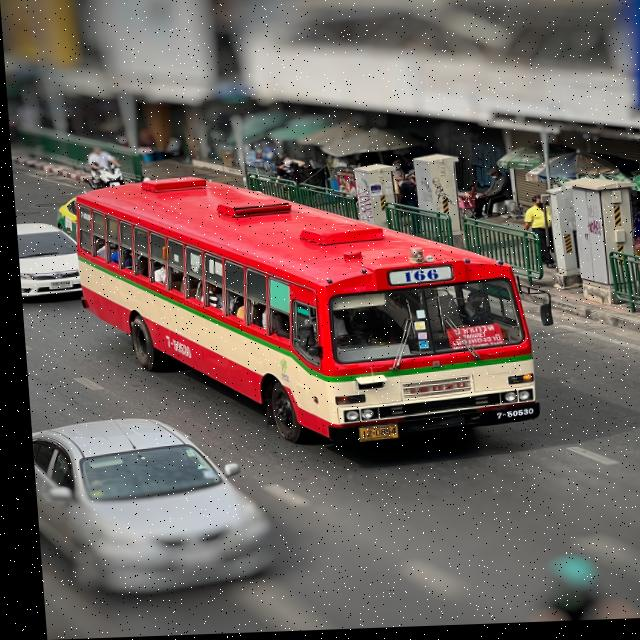BMTA-bus: (51, 179, 534, 449)
Bus Line Number: (386, 267, 452, 290)
Bus Side Number: (483, 411, 534, 423)
Destination Sign: (441, 326, 502, 353)
